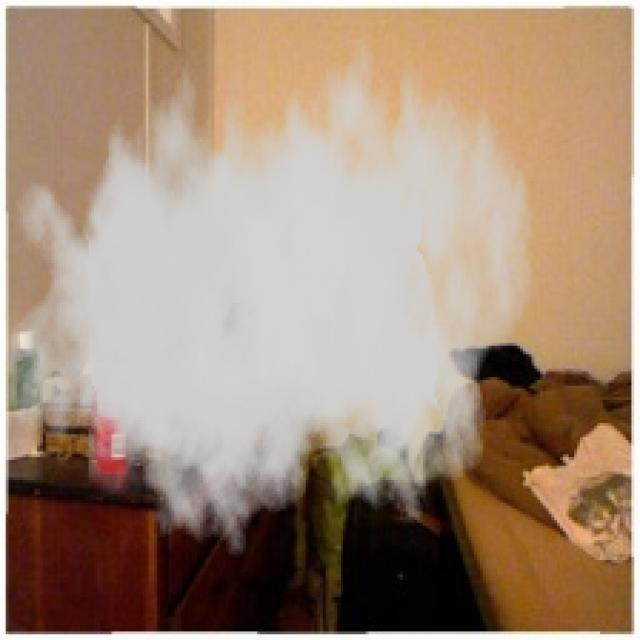smoke: (3, 8, 534, 566)
